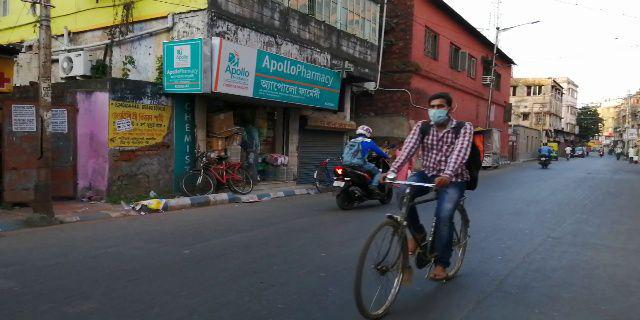Cycle: (344, 91, 480, 318), (176, 152, 255, 195)
Motorbike: (326, 122, 398, 211), (534, 140, 556, 171)
